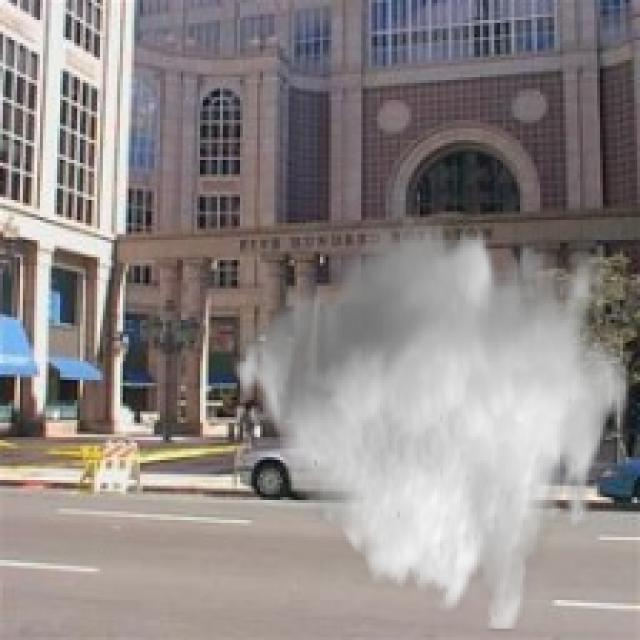Smoke: (226, 214, 628, 632)
